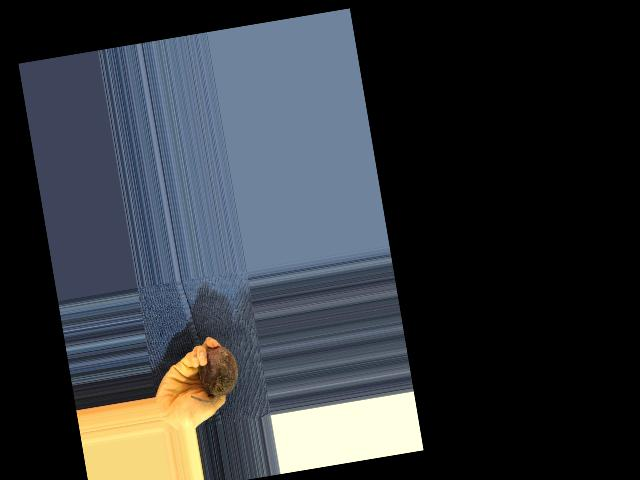beet: (182, 343, 241, 405)
